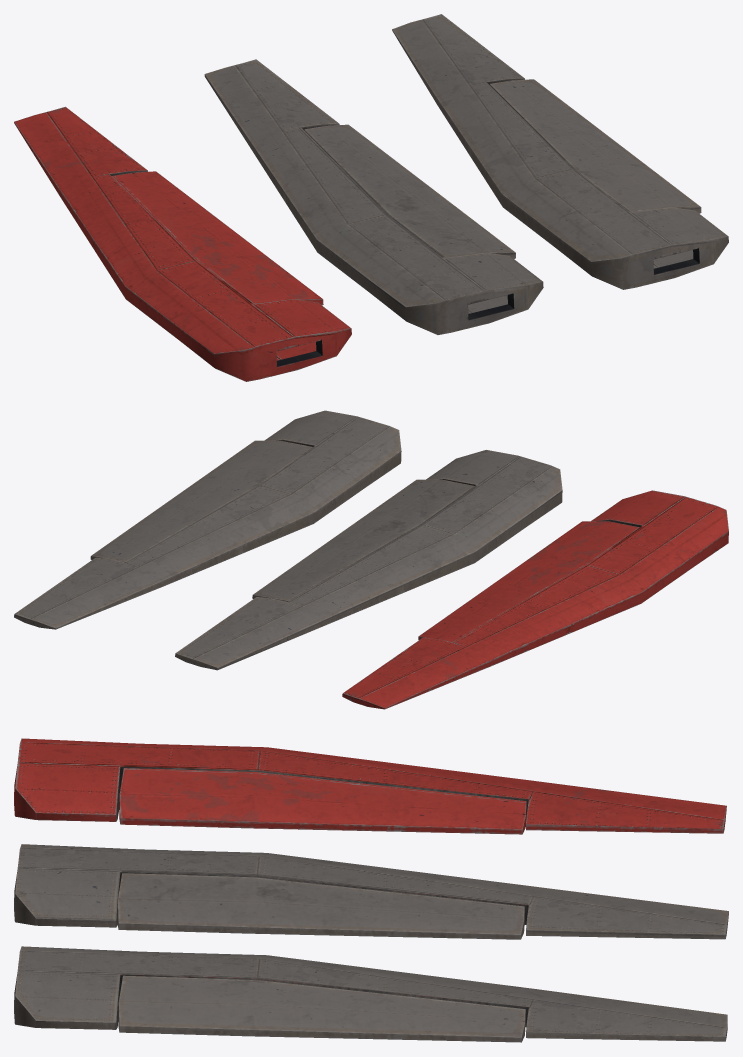
The model's file is wing.glb.
The picture shows the model from 3 angles, top to bottom: view 1: azimuth 30°, elevation 25°; view 2: azimuth 150°, elevation 25°; view 3: azimuth 270°, elevation 25°; orthographic projection. The views are drawn at different scales.
Visible parts, largest first — view 1: Object_2; view 2: Object_2; view 3: Object_2.
Part boxes in pixels (box(x1,y1,x2,y2)): Object_2: box(14, 14, 728, 381); Object_2: box(14, 410, 728, 709); Object_2: box(14, 738, 728, 1042).
Bounding box in the file's own units: 20.35 × 1.37 × 21.14.
Materials: 1 (1 with a texture image).
